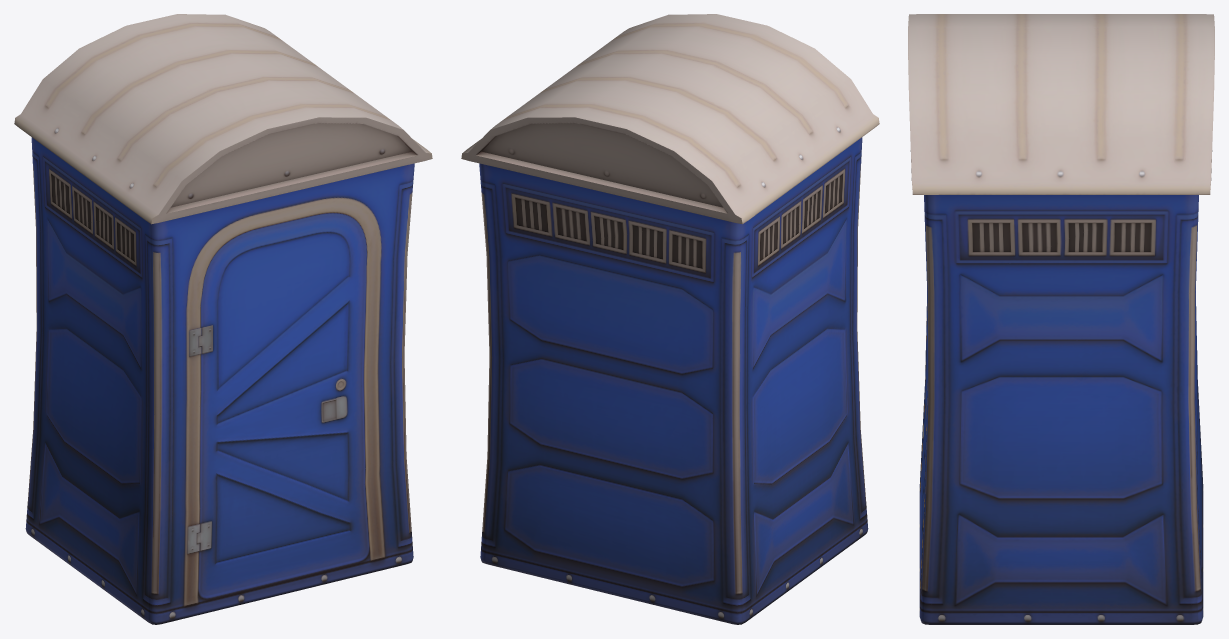
File: ToiletPortable01_2.FBX
3 views of the same model, side by side, from view 1: azimuth 30°, elevation 25°; view 2: azimuth 150°, elevation 25°; view 3: azimuth 270°, elevation 25° (orthographic). The views are drawn at different scales.
Visible parts, largest first — view 1: ToiletPortable01_2; view 2: ToiletPortable01_2; view 3: ToiletPortable01_2.
Boxes of the visible parts, x1,y1,x2,y2 form: ToiletPortable01_2: (14,14,432,624); ToiletPortable01_2: (461,14,879,624); ToiletPortable01_2: (908,14,1214,624).
Size of what is drawn, in the model's own units: 1.64 by 2.65 by 1.42.
